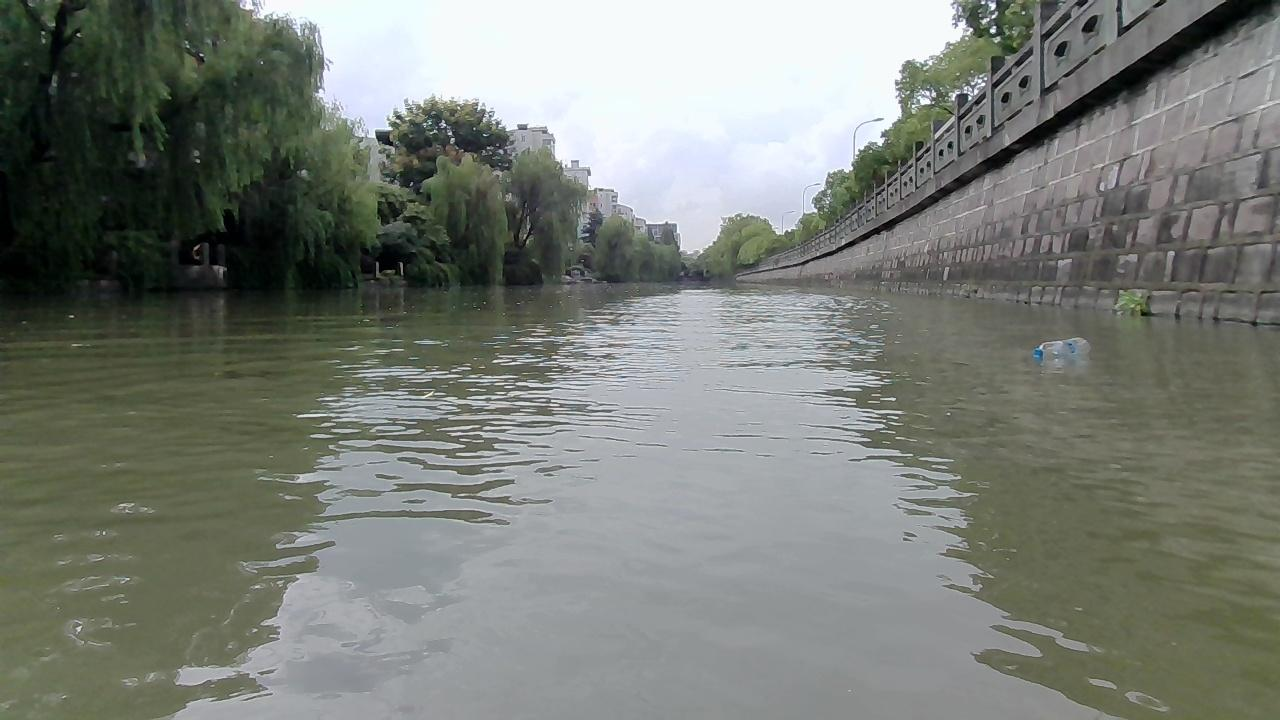bottle: (1032, 335, 1091, 358)
